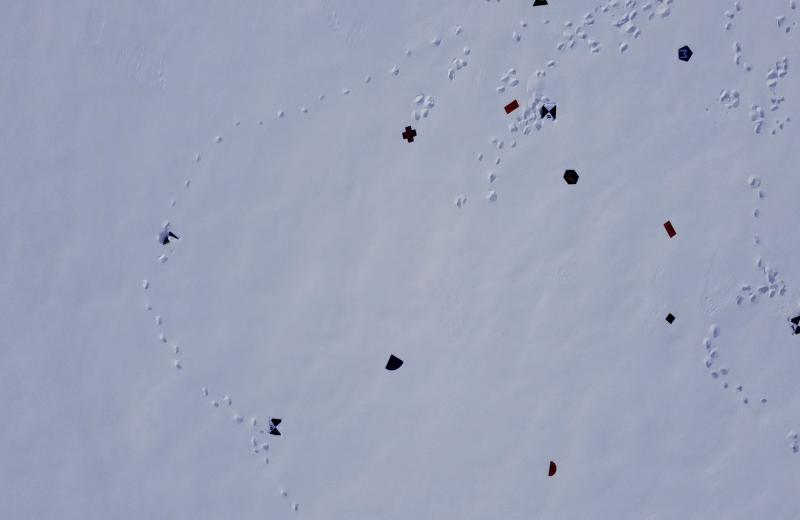Cross: (402, 124, 418, 143)
Hexagon: (562, 167, 579, 187)
Pentagon: (678, 44, 694, 64)
Quarter Circle: (384, 351, 404, 372)
Rectangle: (662, 217, 678, 241), (504, 100, 520, 115)
Semi Circle: (545, 462, 558, 478)
Square: (665, 312, 677, 326)
Triangle: (530, 0, 549, 7)
